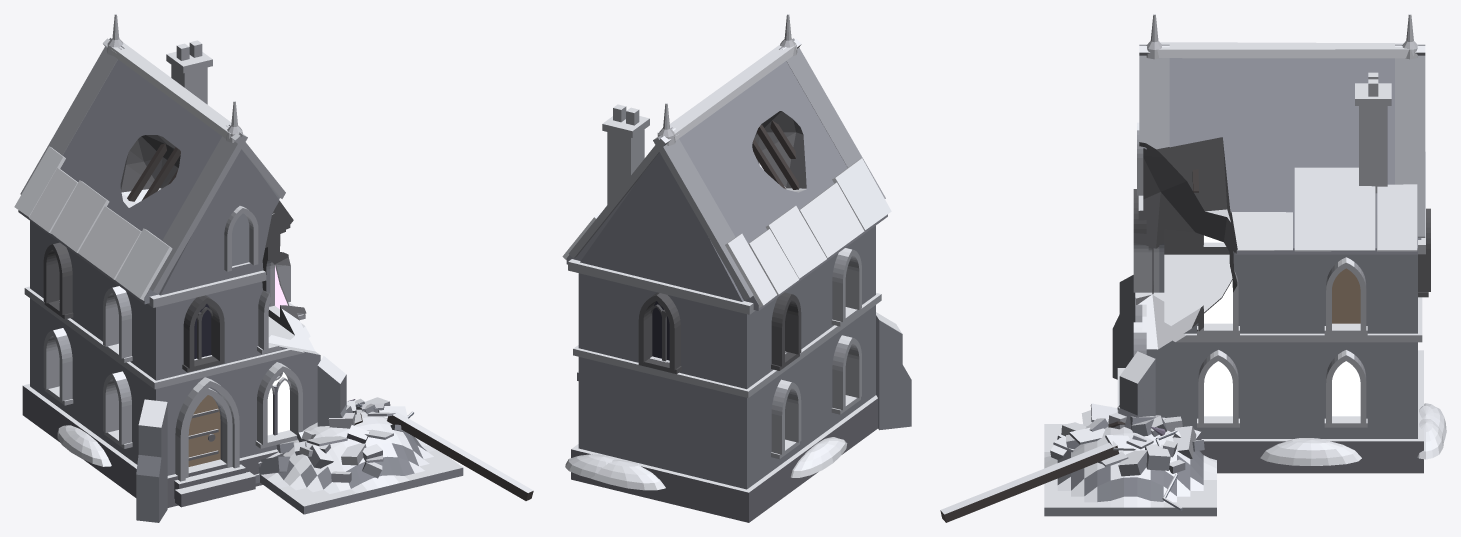
The model's file is AR_Casa_Empena_Quebrada.fbx.
The picture shows the model from 3 angles, left to right: view 1: azimuth 30°, elevation 25°; view 2: azimuth 150°, elevation 25°; view 3: azimuth 270°, elevation 25°; orthographic projection. The views are drawn at different scales.
Parts seen in each view (by area): view 1: AR_Casa_Empena_Quebrada; view 2: AR_Casa_Empena_Quebrada; view 3: AR_Casa_Empena_Quebrada.
Part boxes in pixels (box(x1,y1,x2,y2)): AR_Casa_Empena_Quebrada: box(14, 14, 533, 522); AR_Casa_Empena_Quebrada: box(562, 14, 911, 522); AR_Casa_Empena_Quebrada: box(940, 14, 1446, 522).
Bounding box in the file's own units: 12.09 × 14.27 × 15.85.
